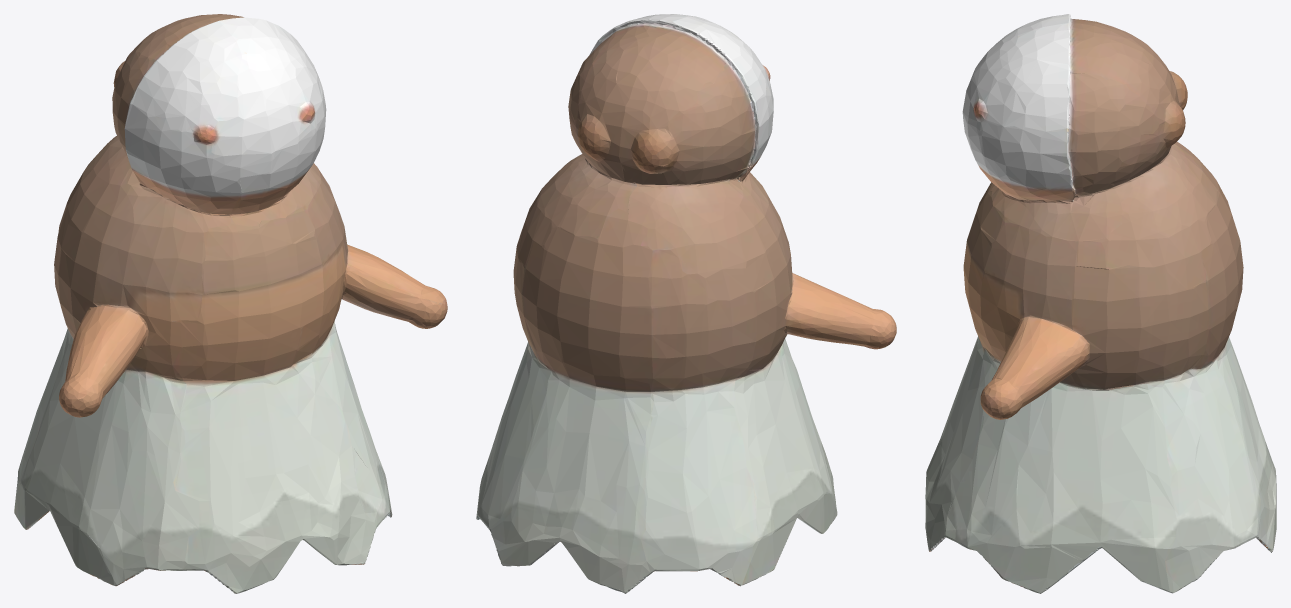
File: creature-130.lod.glb
3 renders of one model, left to right at view 1: azimuth 30°, elevation 25°; view 2: azimuth 150°, elevation 25°; view 3: azimuth 270°, elevation 25°, orthographic. The views are drawn at different scales.
Parts seen in each view (by area): view 1: tmpzkhc475q.ply; view 2: tmpzkhc475q.ply; view 3: tmpzkhc475q.ply.
Boxes of the visible parts, x1,y1,x2,y2 form: tmpzkhc475q.ply: (14,14,447,593); tmpzkhc475q.ply: (476,14,896,593); tmpzkhc475q.ply: (925,14,1276,593).
Bounding box in the file's own units: 1.55 × 1.97 × 1.25.
Materials: 1 (1 with a texture image).
